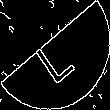L_NW: (30, 25, 80, 85)
